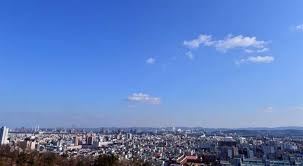city: (1, 128, 301, 166)
sky: (1, 1, 302, 128)
